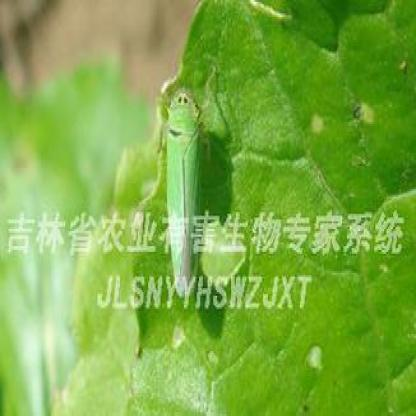Green-Leafhopper: (152, 70, 216, 308)
